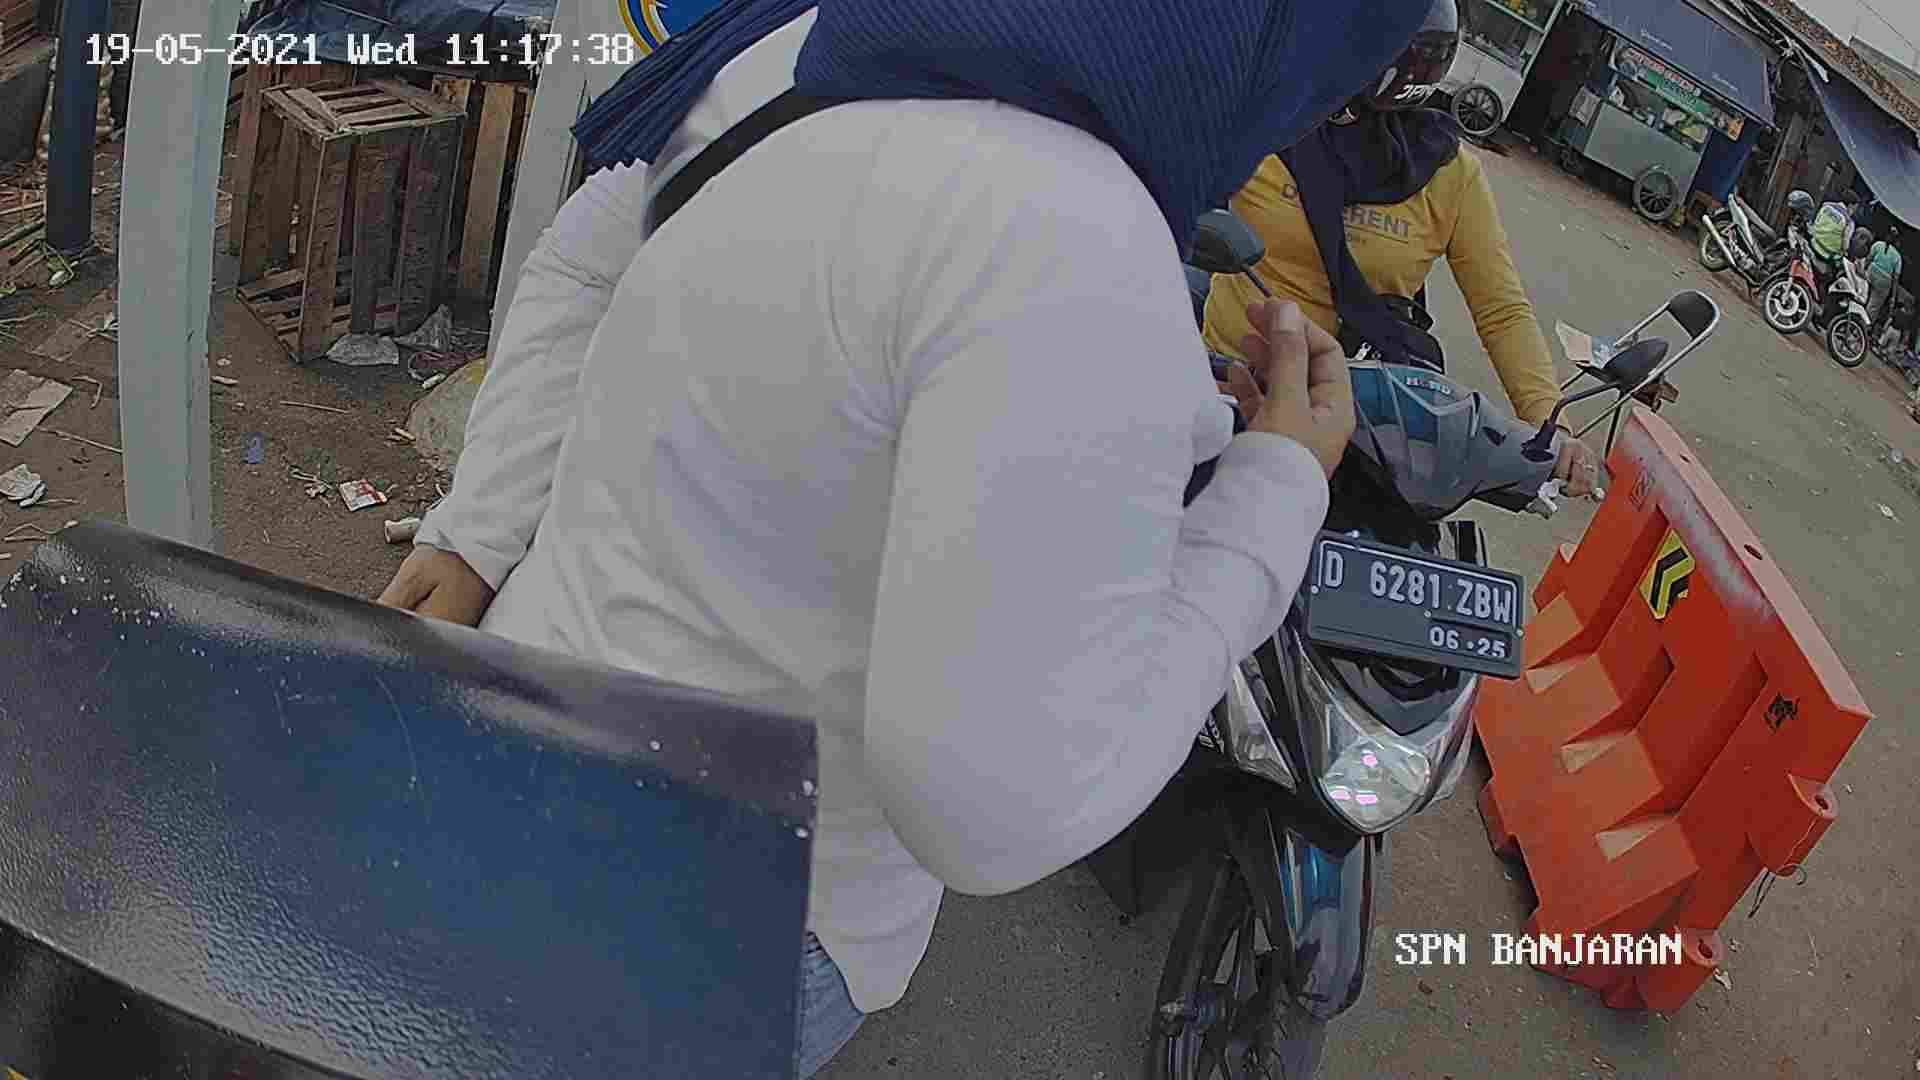motor: (1258, 324, 1586, 1080)
